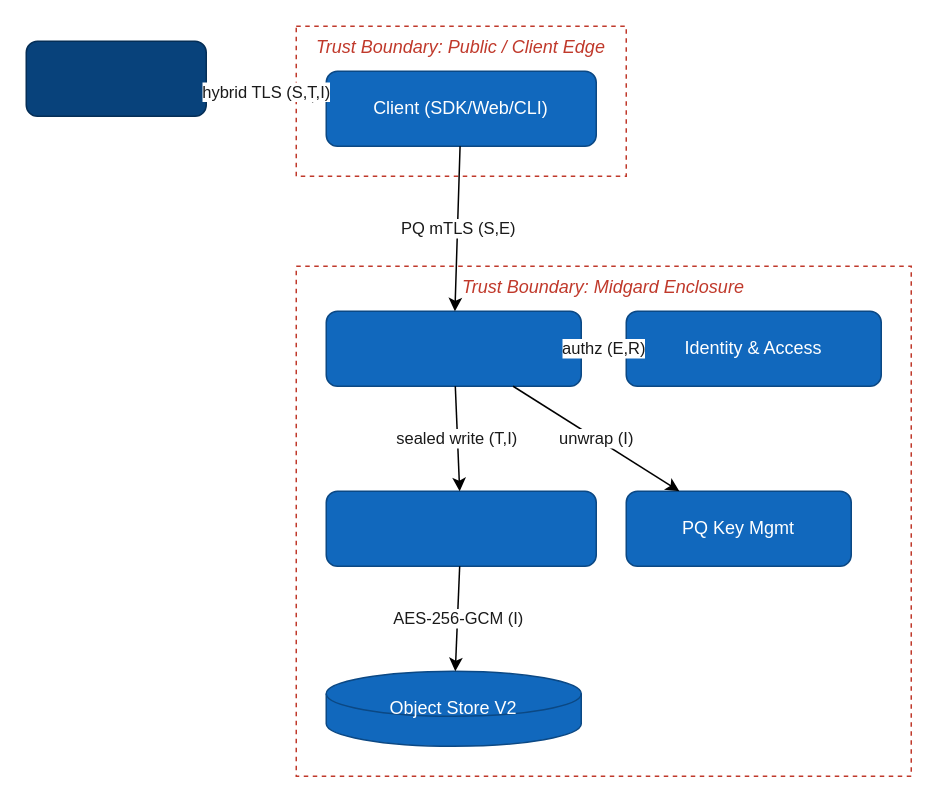
Image size: 938x803. Some labels were removed from this diagram. Here are the shapes that lost their labels. From the top down, the box of each, then its label:
(25, 40, 206, 116): User
(325, 310, 581, 386): Object Gateway
(325, 490, 596, 566): Object Data Funnel
